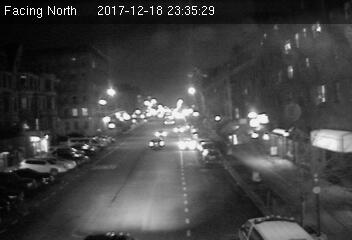car: (178, 138, 197, 152), (146, 137, 166, 150)
police: (235, 212, 313, 239)
